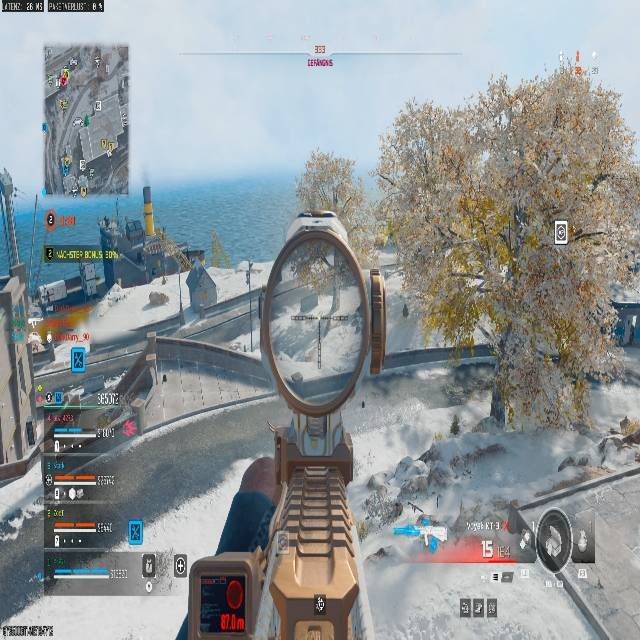player: (29, 333, 42, 352)
